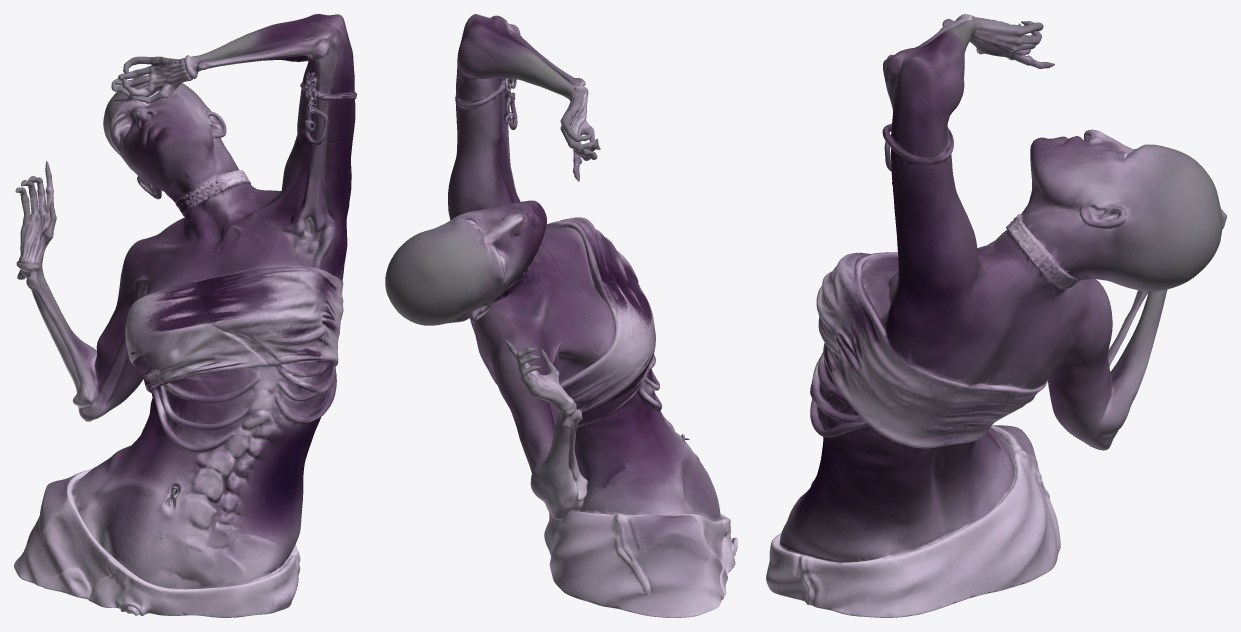
File: body2.glb
3 renders of one model, left to right at view 1: azimuth 30°, elevation 25°; view 2: azimuth 150°, elevation 25°; view 3: azimuth 270°, elevation 25°, orthographic. The views are drawn at different scales.
Parts seen in each view (by area): view 1: tripo_node_e93792f1-67a5-428e-8cc5-473e7646b92e; view 2: tripo_node_e93792f1-67a5-428e-8cc5-473e7646b92e; view 3: tripo_node_e93792f1-67a5-428e-8cc5-473e7646b92e.
Part boxes in pixels (<box>): tripo_node_e93792f1-67a5-428e-8cc5-473e7646b92e: <box>14,14,356,617</box>; tripo_node_e93792f1-67a5-428e-8cc5-473e7646b92e: <box>385,14,737,617</box>; tripo_node_e93792f1-67a5-428e-8cc5-473e7646b92e: <box>766,14,1226,617</box>.
Size of the model in its own units: 0.5916 by 0.9801 by 0.6835.
1 material, 1 textured.
